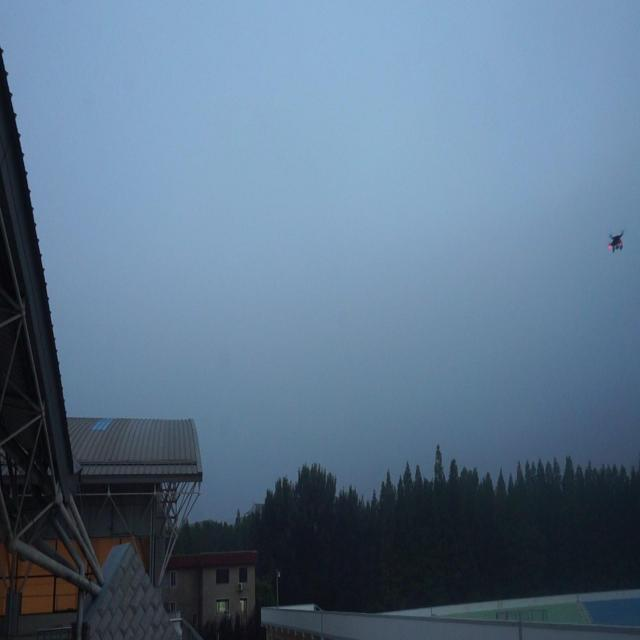UAV: (608, 230, 624, 253)
